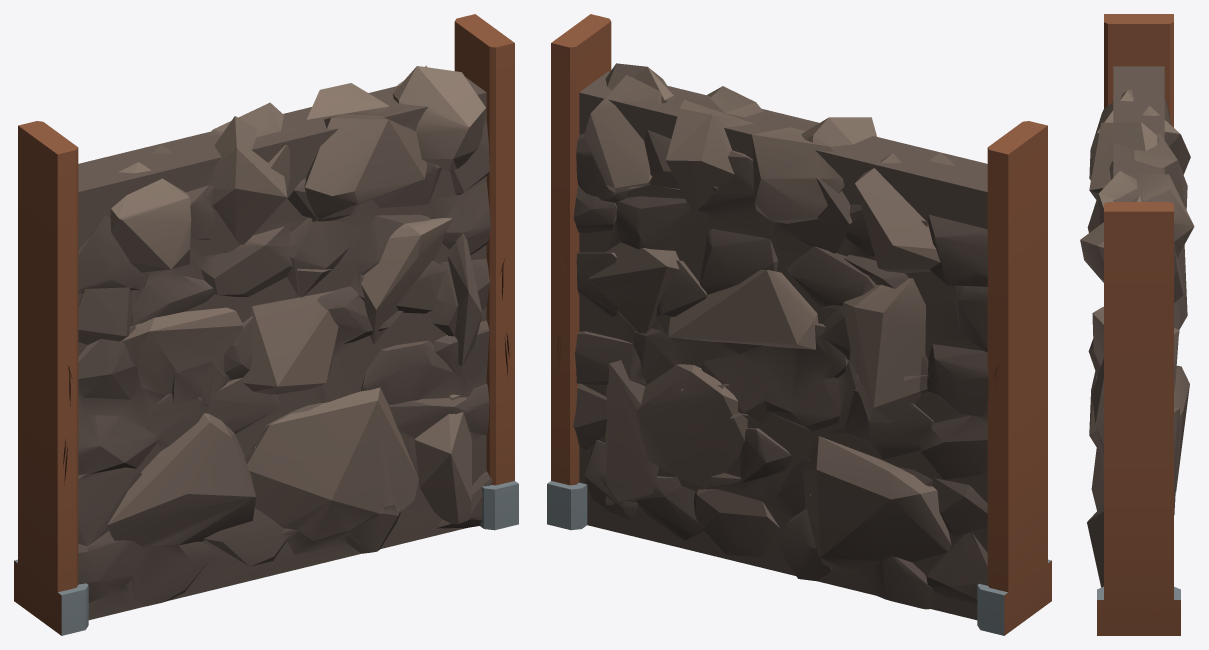
Rendered from wall_cave_D.glb.
3 views of the same model, side by side, from view 1: azimuth 30°, elevation 25°; view 2: azimuth 150°, elevation 25°; view 3: azimuth 270°, elevation 25° (orthographic). The views are drawn at different scales.
Visible parts, largest first — view 1: Item; view 2: Item; view 3: Item.
Part boxes in pixels (left/top/right/bottom): Item: left=14, top=14, right=518, bottom=635; Item: left=547, top=14, right=1051, bottom=635; Item: left=1080, top=14, right=1194, bottom=635.
Size of the model in its own units: 4 by 4 by 0.9744.
Materials: 1 (1 with a texture image).
